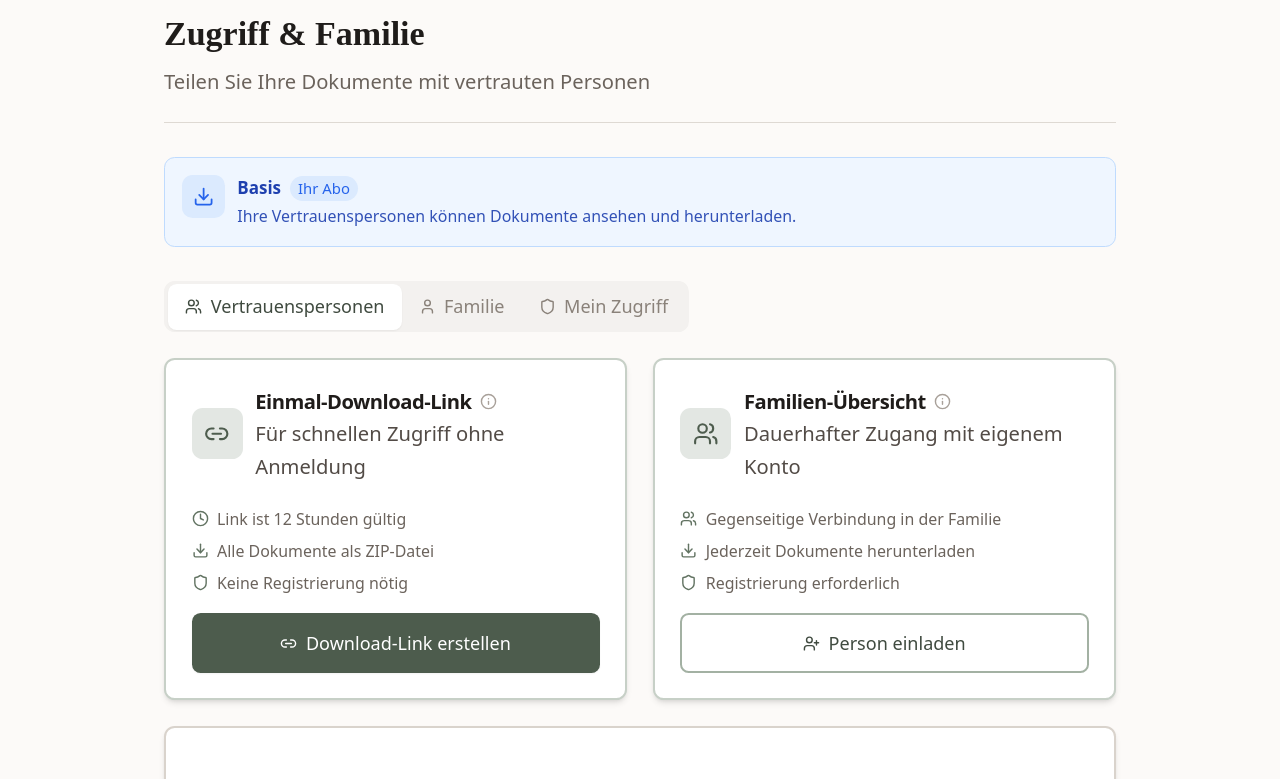
Test: ZugriffPage Familie Tab Full Integration › Familie Tab Access Level Banners › should show no access banner when only Free members exist
The width and height of the screenshot is (1280, 779).
Check: the heading "Zugriff & Familie" is shown, box [164, 15, 425, 52]
Click the tab "Familie": (462, 307) [402, 284, 522, 330]
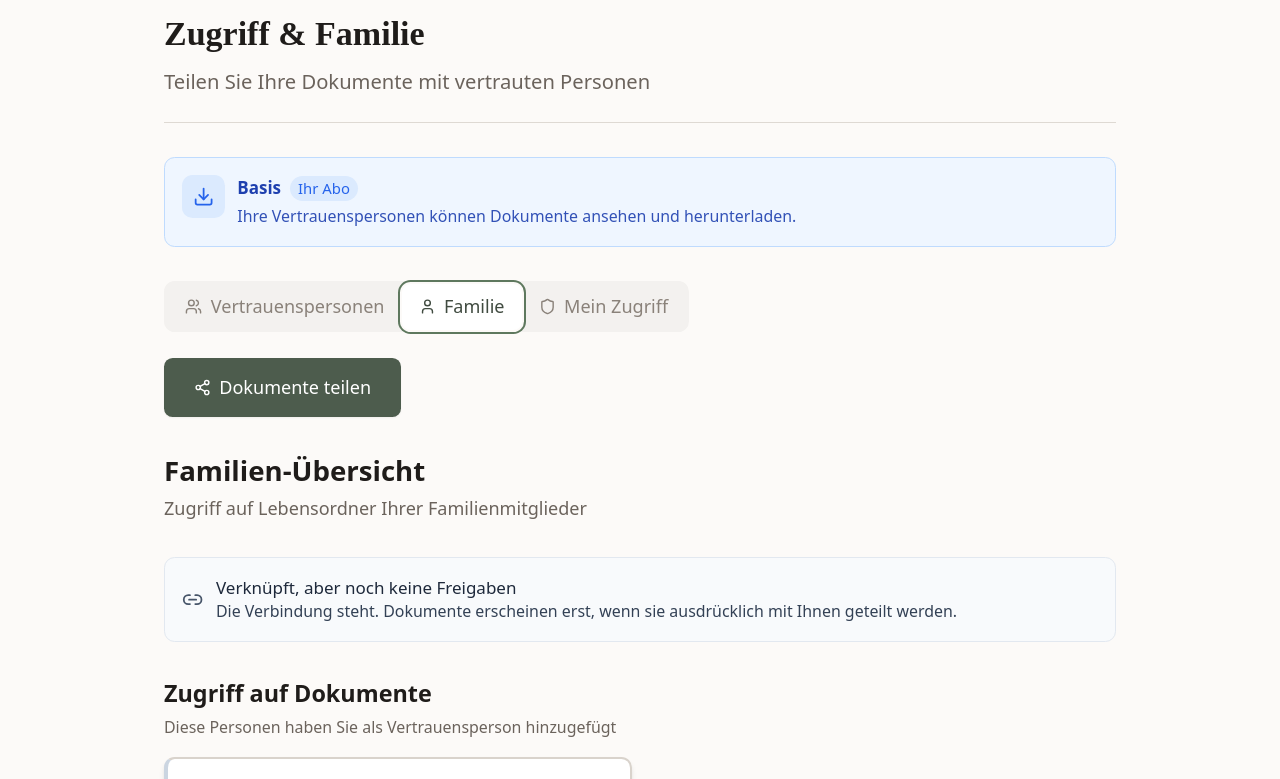
Check: the text "Verknüpft, aber noch keine Freigaben" is shown, box [216, 576, 516, 599]
